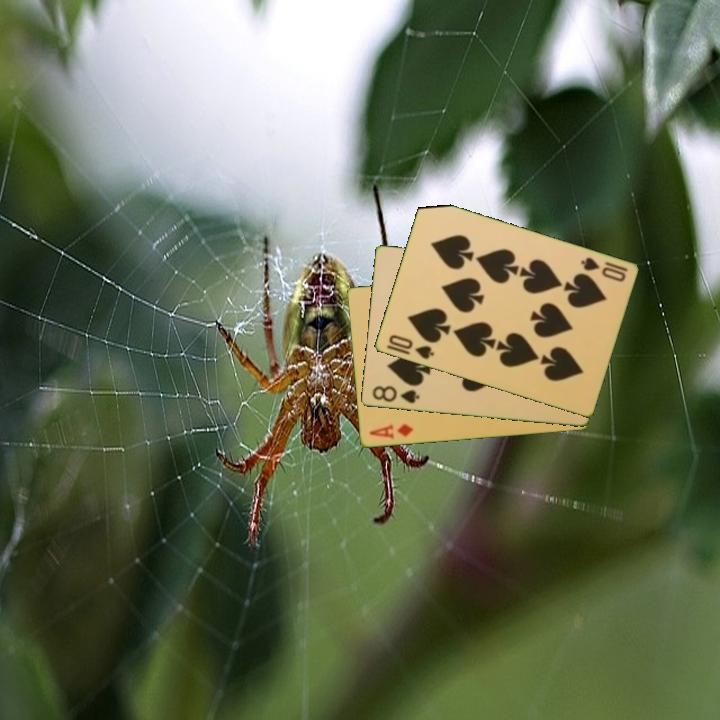10s: (577, 254, 631, 285), (385, 331, 437, 362)
8s: (369, 382, 422, 407)
Ad: (365, 420, 416, 443)
